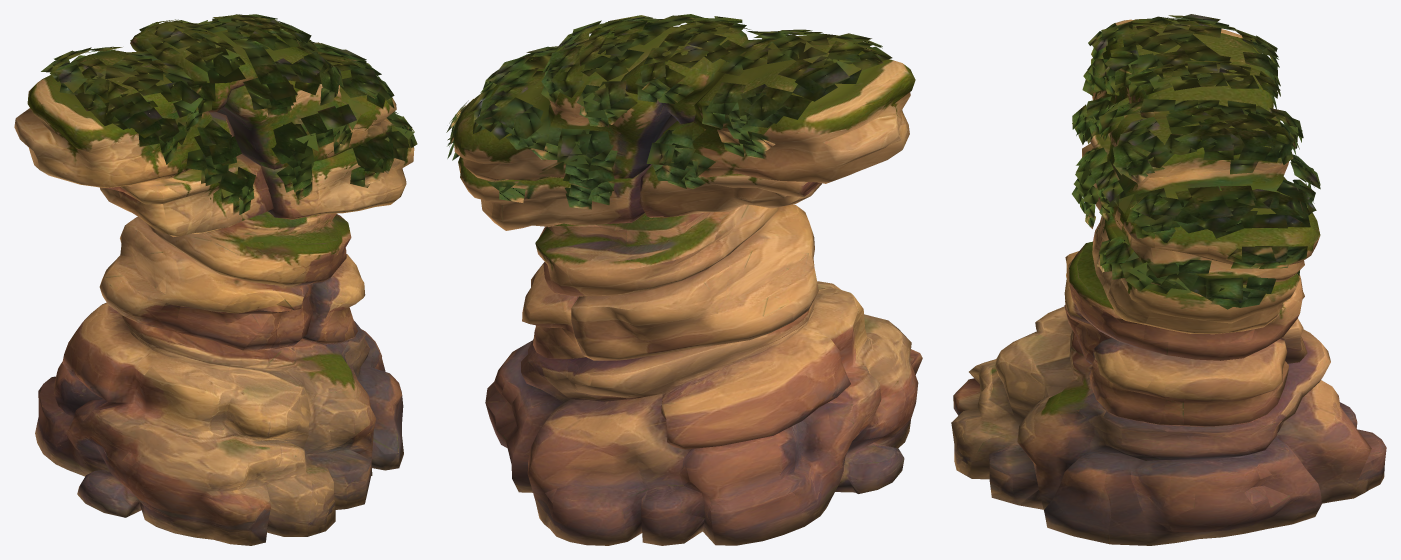
The model's file is spire.glb.
3 renders of one model, left to right at view 1: azimuth 30°, elevation 25°; view 2: azimuth 150°, elevation 25°; view 3: azimuth 270°, elevation 25°, orthographic. The views are drawn at different scales.
Parts seen in each view (by area): view 1: spire; view 2: spire; view 3: spire.
Part boxes in pixels (x1,y1,x2,y2): spire: (14,14,417,545); spire: (446,14,922,545); spire: (951,14,1386,545).
Bounding box in the file's own units: 1 × 1 × 1.
Materials: 1 (1 with a texture image).
